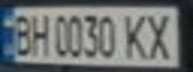0: (96, 11, 121, 60), (51, 10, 69, 57), (66, 11, 84, 58)
3: (81, 11, 103, 60)
B: (9, 10, 36, 57)
H: (27, 10, 51, 57)
K: (121, 10, 151, 61)
X: (142, 9, 181, 61)
